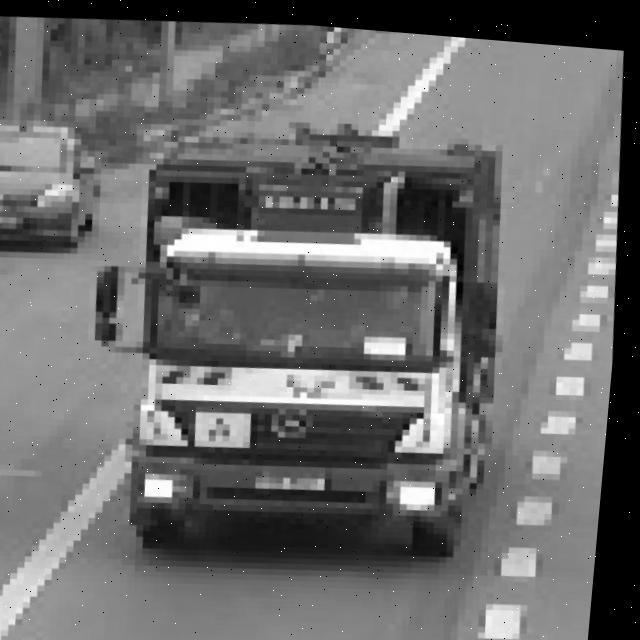truck: (87, 177, 543, 572)
